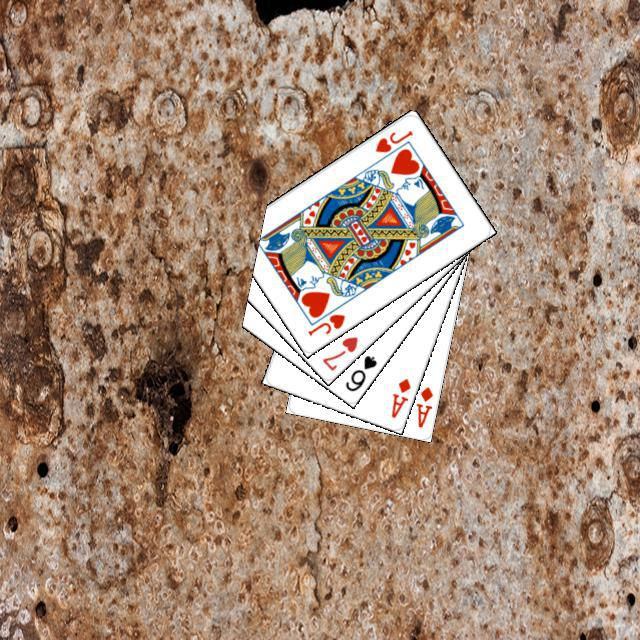6s: (340, 350, 379, 393)
7h: (317, 332, 360, 373)
Ad: (386, 373, 413, 420), (411, 382, 435, 430)
Jh: (370, 125, 415, 154), (303, 309, 347, 338)
